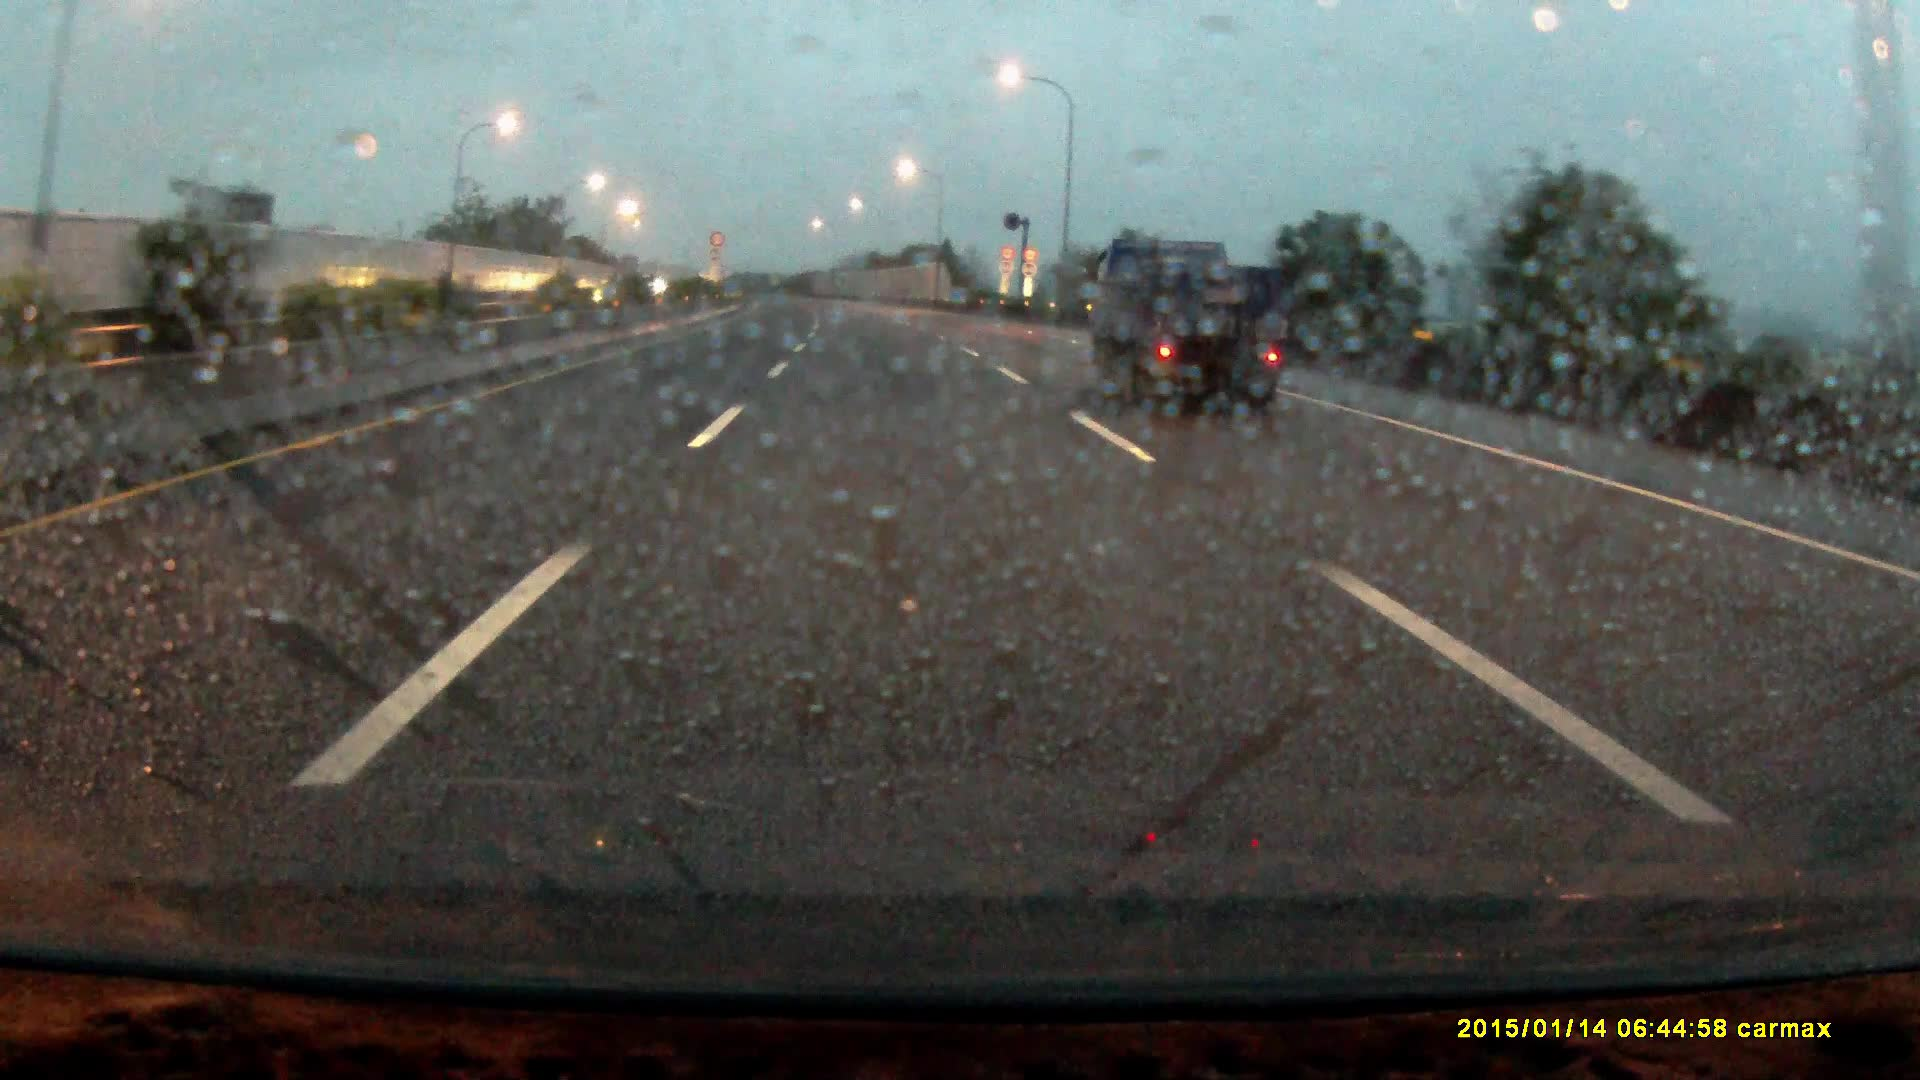vehicle: (1087, 243, 1287, 415)
